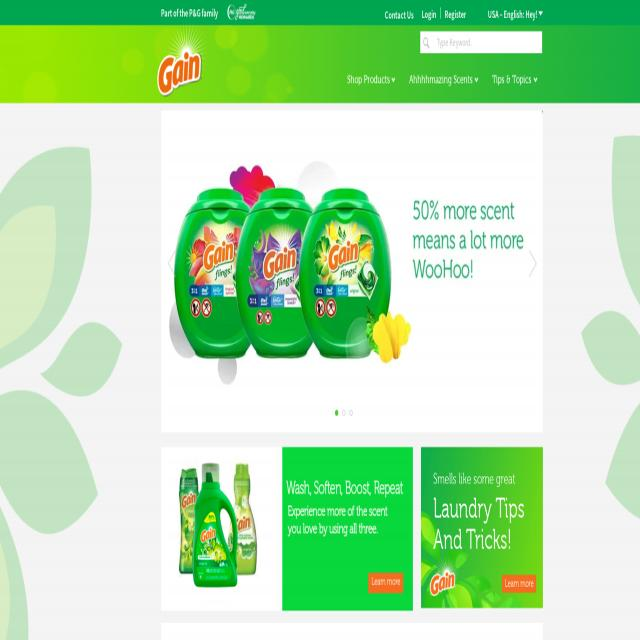button: (157, 18, 210, 98), (397, 58, 481, 102), (335, 58, 397, 102), (480, 58, 539, 102), (369, 572, 403, 592), (502, 574, 536, 592), (228, 3, 256, 20), (529, 250, 537, 278), (168, 250, 175, 278), (423, 37, 429, 48), (334, 408, 339, 418), (342, 409, 346, 417)
field: (420, 32, 542, 53)
